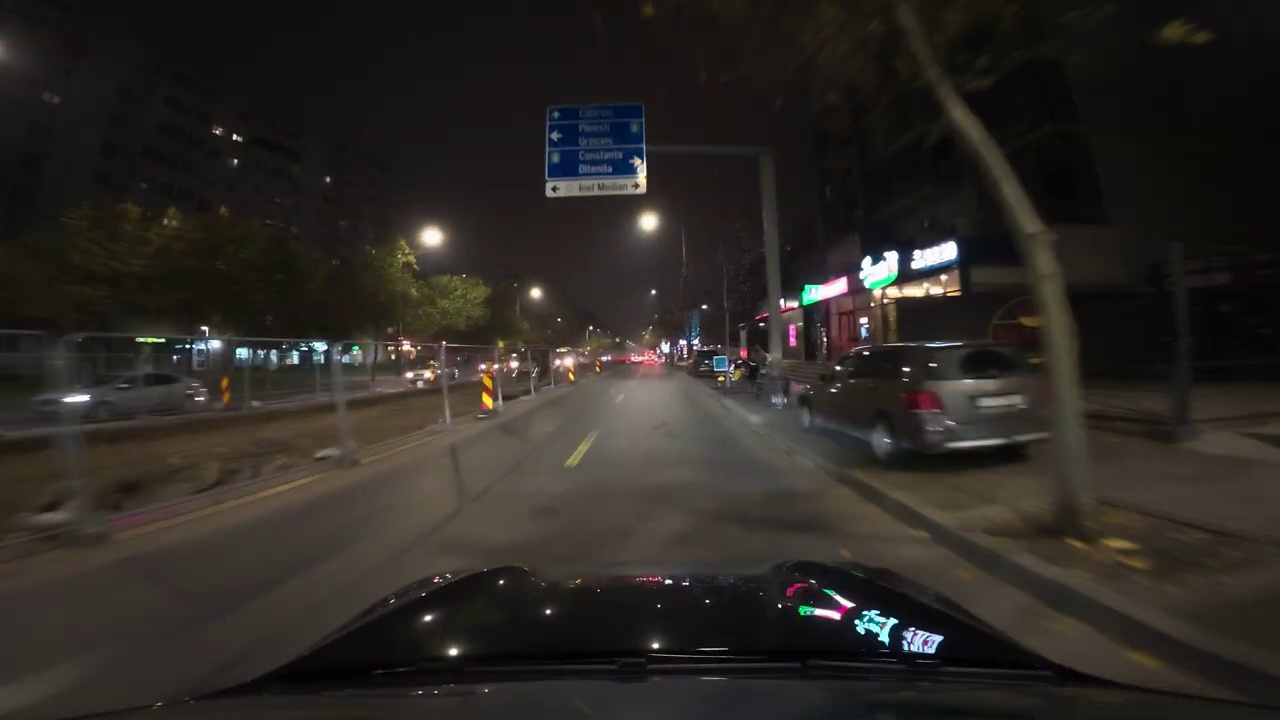acesa: (416, 223, 447, 251), (634, 209, 662, 235), (525, 283, 548, 306)
